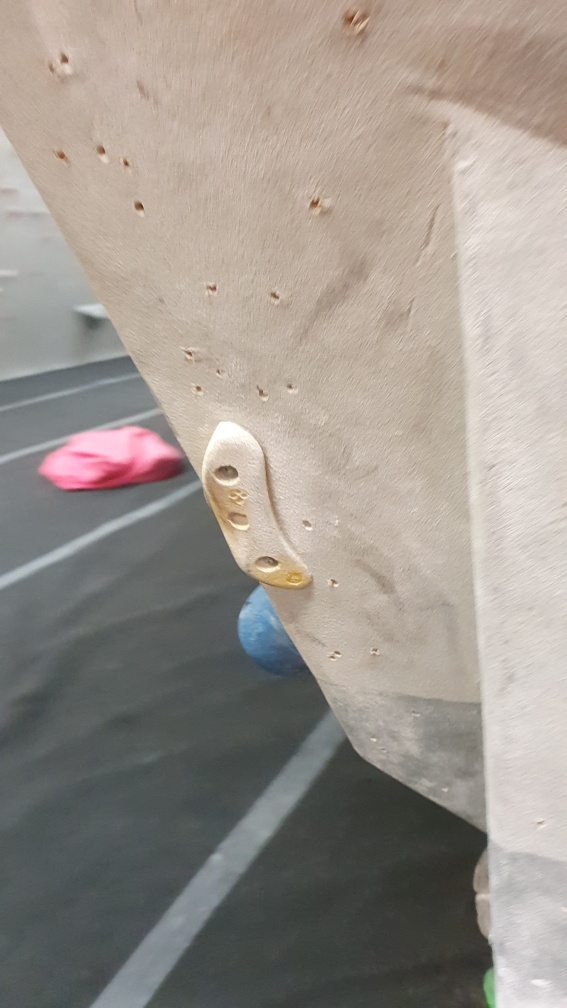Crimp: (198, 420, 315, 594)
Sloper: (236, 584, 307, 681)
